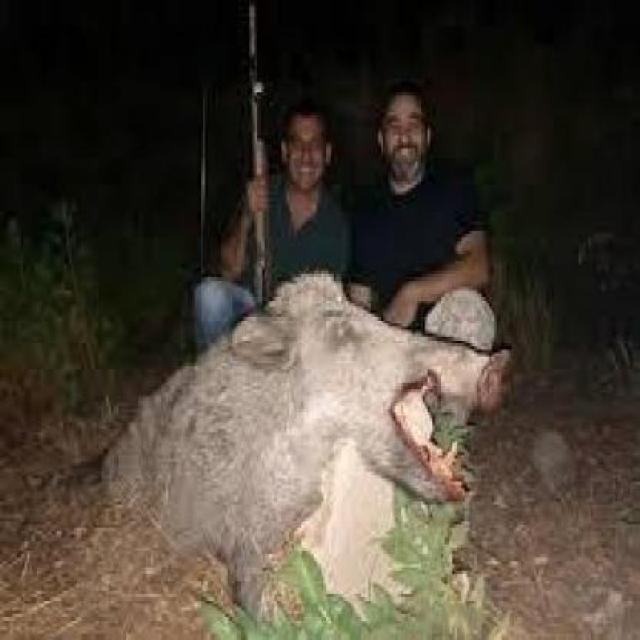wildboar: (83, 266, 519, 640)
